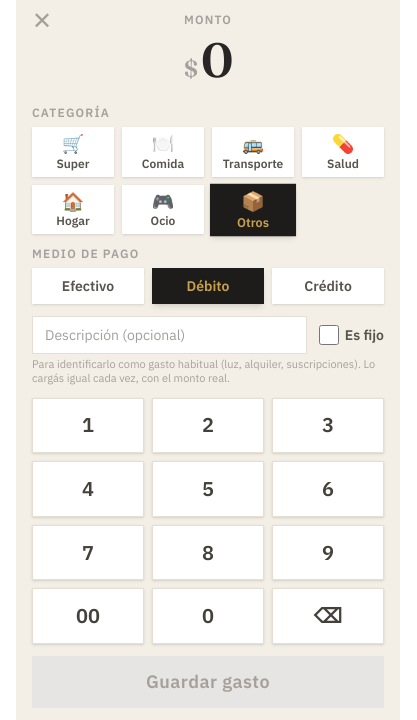
Test case: Tecla 00 › tocar 5, 00, 00 muestra "50.000"
The image size is (417, 720).
Click the button "5" at coordinates (208, 489), box 152,461 -> 264,517
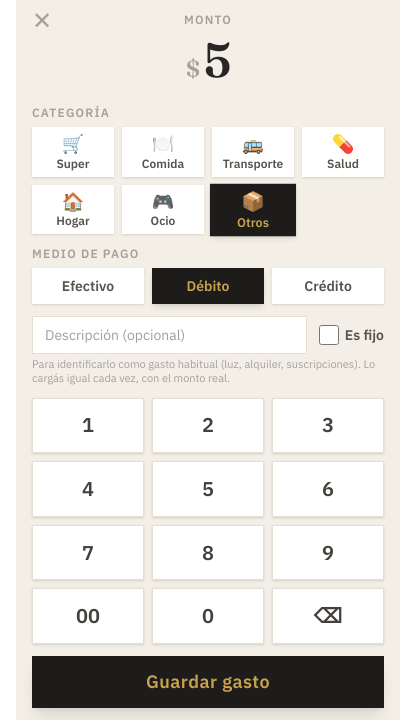
Click the button with id "tecla-00" at coordinates (88, 616), box 32,588 -> 144,644
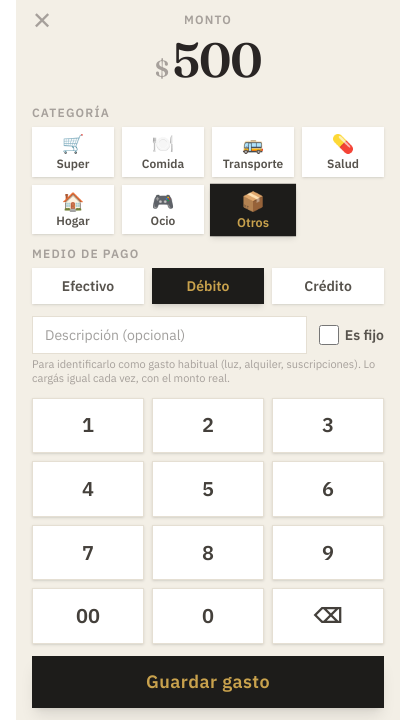
Click the button with id "tecla-00" at coordinates (88, 616), box 32,588 -> 144,644
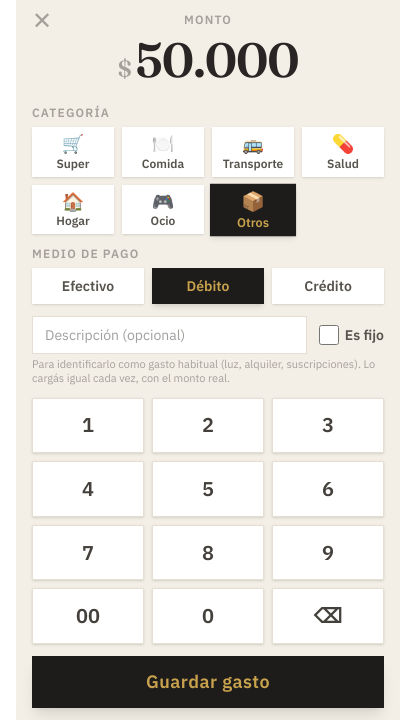
Expected: the text with id "display-monto-valor" reads "50.000", 135,30 -> 298,89
